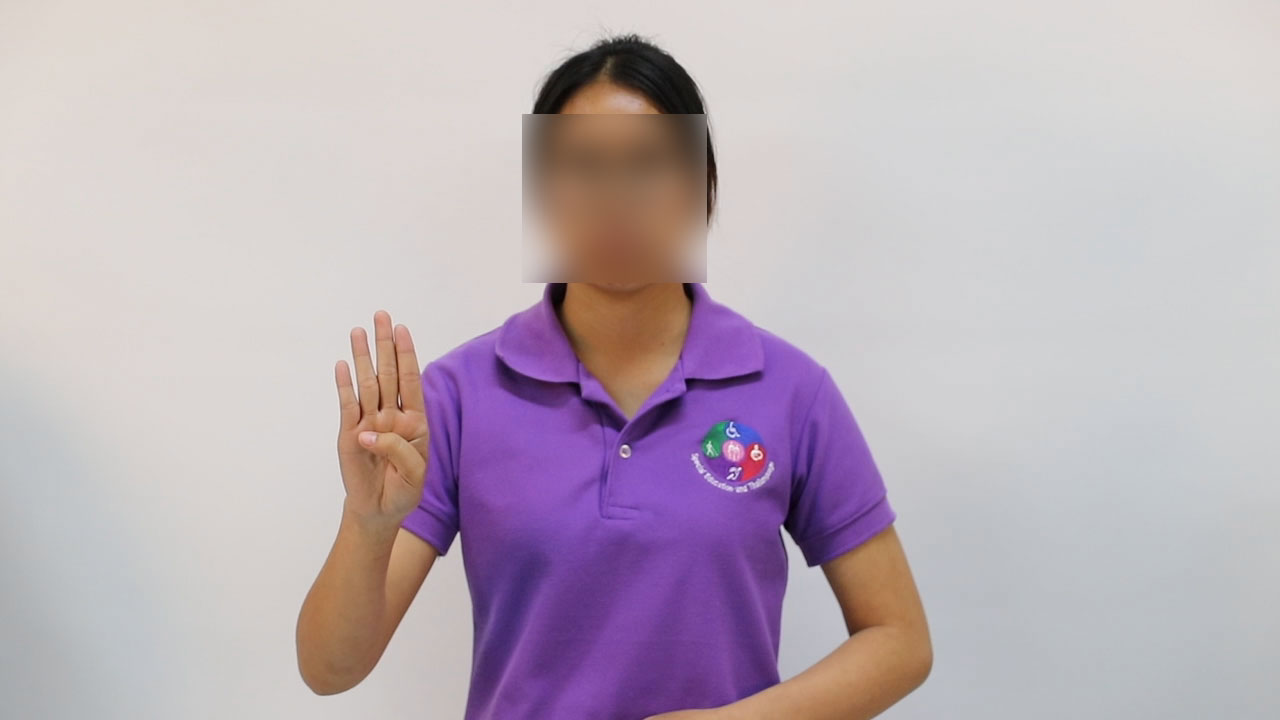bor: (318, 295, 436, 554)
